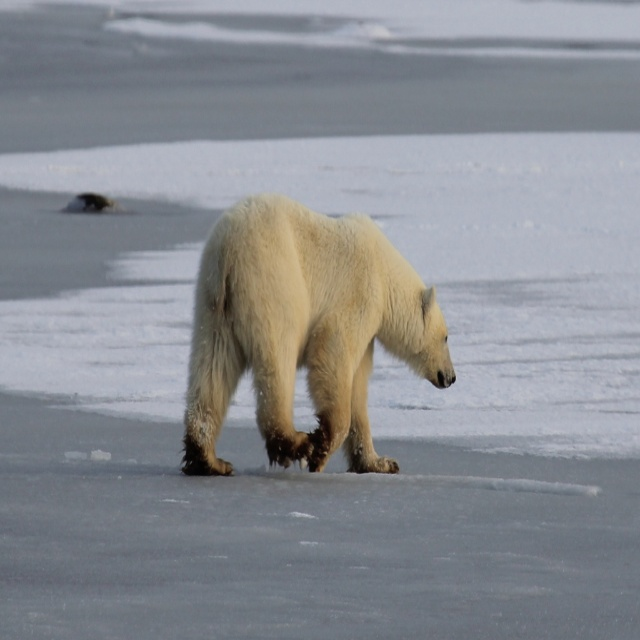Polar bear: (179, 193, 456, 476)
